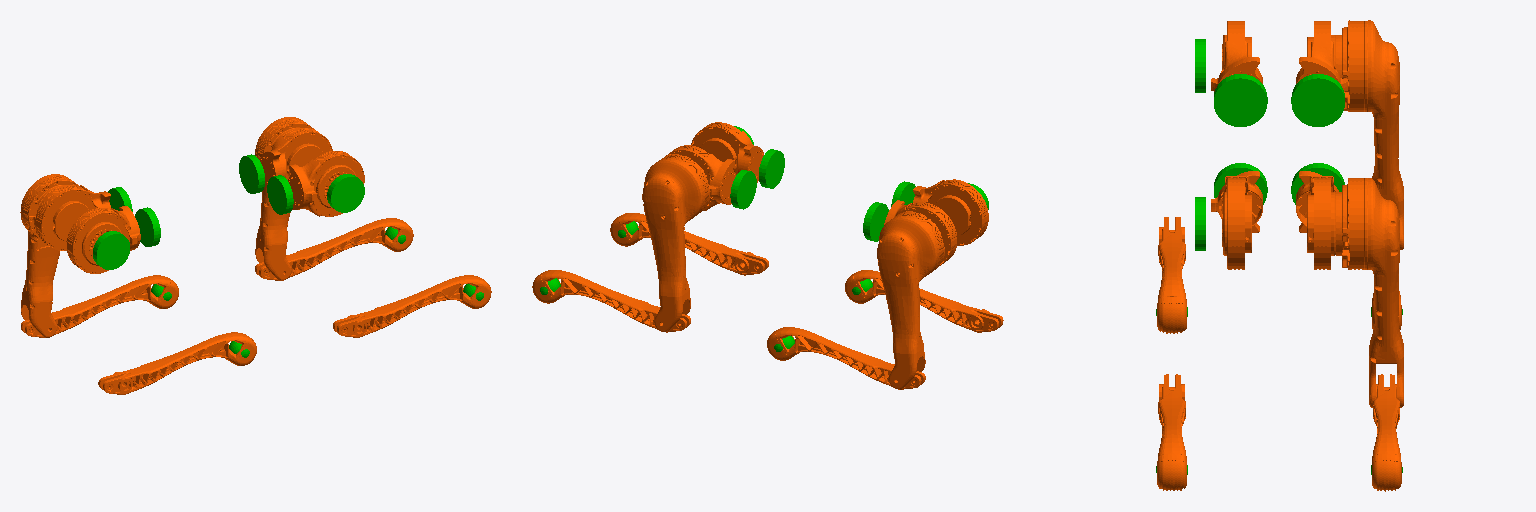
--- Render facts (derived) ---
3 views of the same robot in one strip: view 1: azimuth 30°, elevation 25°; view 2: azimuth 150°, elevation 25°; view 3: azimuth 270°, elevation 25° (orthographic).
Model b1_description with 36 links and 35 joints (12 revolute, 23 fixed), rooted at base, posed joints at zero except 4 at the middle of their limits (FR_calf_joint = -1.6, FL_calf_joint = -1.6, RR_calf_joint = -1.6, RL_calf_joint = -1.6).
Links seen in each view (by area): view 1: RL_thigh, FR_calf, RR_calf, FL_thigh, FR_hip, FL_calf, RL_calf, RL_hip, RR_hip, FL_hip, FR_calf_rotor, RR_calf_rotor (+3 smaller); view 2: RL_thigh, FL_thigh, FL_calf, RL_calf, RR_hip, FR_calf, RR_calf, FR_hip, FL_hip, RL_hip, FR_hip_rotor, FL_hip_rotor (+1 smaller); view 3: FL_thigh, RL_thigh, FR_hip, FL_hip, FR_calf, RR_calf, FL_calf, RR_hip_rotor, RL_hip_rotor, RR_hip, RL_hip, FR_hip_rotor (+3 smaller).
Boxes of the visible links, x1,y1,x2,y2 form: RL_thigh: (20, 174, 78, 337); FR_calf: (333, 275, 491, 337); RR_calf: (98, 332, 256, 394); FL_thigh: (255, 117, 314, 280); FR_hip: (288, 151, 364, 216); FL_calf: (255, 218, 413, 280); RL_calf: (21, 275, 178, 337); RL_hip: (35, 185, 110, 250); RR_hip: (67, 206, 140, 273); FL_hip: (260, 128, 332, 187); FR_calf_rotor: (327, 174, 364, 212); RR_calf_rotor: (93, 231, 129, 269); RL_thigh: (877, 211, 944, 389); FL_thigh: (642, 154, 710, 331); FL_calf: (532, 270, 690, 332); RL_calf: (767, 327, 925, 389); RR_hip: (913, 179, 988, 245); FR_calf: (610, 213, 768, 275); RR_calf: (845, 270, 1003, 332); FR_hip: (691, 122, 763, 182); FL_hip: (666, 145, 735, 210); RL_hip: (884, 200, 956, 265); FR_hip_rotor: (759, 149, 784, 188); FL_hip_rotor: (730, 170, 756, 209); FL_thigh: (1336, 178, 1403, 407); RL_thigh: (1336, 20, 1403, 249); FR_hip: (1211, 171, 1262, 269); FL_hip: (1296, 171, 1338, 269); FR_calf: (1157, 374, 1186, 490); RR_calf: (1157, 217, 1186, 333); FL_calf: (1372, 374, 1401, 491); RR_hip_rotor: (1214, 74, 1267, 126); RL_hip_rotor: (1291, 74, 1344, 126); RR_hip: (1211, 21, 1262, 91); RL_hip: (1296, 21, 1347, 91); FR_hip_rotor: (1214, 163, 1267, 204).
Size in the robot's own frame: 1.17 by 0.4595 by 0.465 metres.
Meshes: 5 distinct files referenced, 10 mesh visuals loaded (3 OBJ); not drawn: 3 (reference not matched to a file when rendering).

robot.urdf — b1_description:
<?xml version="1.0" ?>
<!-- =================================================================================== -->
<!-- |    This document was autogenerated by xacro from robot.xacro                    | -->
<!-- |    EDITING THIS FILE BY HAND IS NOT RECOMMENDED                                 | -->
<!-- =================================================================================== -->
<robot name="b1_description">
  <material name="black">
    <color rgba="0.0 0.0 0.0 1.0"/>
  </material>
  <material name="blue">
    <color rgba="0.0 0.0 0.8 1.0"/>
  </material>
  <material name="green">
    <color rgba="0.0 0.8 0.0 1.0"/>
  </material>
  <material name="grey">
    <color rgba="0.2 0.2 0.2 1.0"/>
  </material>
  <material name="silver">
    <color rgba="0.9137254901960784 0.9137254901960784 0.8470588235294118 1.0"/>
  </material>
  <material name="orange">
    <color rgba="1.0 0.4235294117647059 0.0392156862745098 1.0"/>
  </material>
  <material name="brown">
    <color rgba="0.8705882352941177 0.8117647058823529 0.7647058823529411 1.0"/>
  </material>
  <material name="red">
    <color rgba="0.8 0.0 0.0 1.0"/>
  </material>
  <material name="white">
    <color rgba="1.0 1.0 1.0 1.0"/>
  </material>
  <!-- ros_control plugin -->
  <gazebo>
    <plugin filename="libgazebo_ros_control.so" name="gazebo_ros_control">
      <robotNamespace>/aliengo_gazebo</robotNamespace>
      <robotSimType>gazebo_ros_control/DefaultRobotHWSim</robotSimType>
    </plugin>
  </gazebo>
  <!-- Show the trajectory of trunk center. -->
  <gazebo>
    <plugin filename="libLinkPlot3DPlugin.so" name="3dplot">
      <frequency>10</frequency>
      <plot>
        <link>base</link>
        <pose>0 0 0 0 0 0</pose>
        <material>Gazebo/Yellow</material>
      </plot>
    </plugin>
  </gazebo>
  <!-- Show the trajectory of foot. You can add another trajectory about another foot. -->
  <!-- <gazebo>
        <plugin name="3dplot" filename="libLinkPlot3DPlugin.so">
            <frequency>100</frequency>
            <plot>
                <link>FL_foot</link>
                <pose>0 0 0 0 0 0</pose>
                <material>Gazebo/Green</material>
            </plot>
        </plugin>
    </gazebo> -->
  <gazebo>
    <plugin filename="libgazebo_ros_force.so" name="gazebo_ros_force">
      <bodyName>trunk</bodyName>
      <topicName>/apply_force/trunk</topicName>
    </plugin>
  </gazebo>
  <gazebo reference="imu_link">
    <gravity>true</gravity>
    <sensor name="imu_sensor" type="imu">
      <always_on>true</always_on>
      <update_rate>1000</update_rate>
      <visualize>true</visualize>
      <topic>__default_topic__</topic>
      <plugin filename="libgazebo_ros_imu_sensor.so" name="imu_plugin">
        <topicName>trunk_imu</topicName>
        <bodyName>imu_link</bodyName>
        <updateRateHZ>1000.0</updateRateHZ>
        <gaussianNoise>0.0</gaussianNoise>
        <xyzOffset>0 0 0</xyzOffset>
        <rpyOffset>0 0 0</rpyOffset>
        <frameName>imu_link</frameName>
      </plugin>
      <pose>0 0 0 0 0 0</pose>
    </sensor>
  </gazebo>
  <!-- Foot contacts. -->
  <gazebo reference="FR_calf">
    <sensor name="FR_foot_contact" type="contact">
      <update_rate>100</update_rate>
      <plugin filename="libunitreeFootContactPlugin.so" name="contactPlugin"/>
      <contact>
        <collision>FR_calf_fixed_joint_lump__FR_foot_collision_1</collision>
      </contact>
    </sensor>
  </gazebo>
  <gazebo reference="FL_calf">
    <sensor name="FL_foot_contact" type="contact">
      <update_rate>100</update_rate>
      <plugin filename="libunitreeFootContactPlugin.so" name="contactPlugin"/>
      <contact>
        <collision>FL_calf_fixed_joint_lump__FL_foot_collision_1</collision>
      </contact>
    </sensor>
  </gazebo>
  <gazebo reference="RR_calf">
    <sensor name="RR_foot_contact" type="contact">
      <update_rate>100</update_rate>
      <plugin filename="libunitreeFootContactPlugin.so" name="contactPlugin"/>
      <contact>
        <collision>RR_calf_fixed_joint_lump__RR_foot_collision_1</collision>
      </contact>
    </sensor>
  </gazebo>
  <gazebo reference="RL_calf">
    <sensor name="RL_foot_contact" type="contact">
      <update_rate>100</update_rate>
      <plugin filename="libunitreeFootContactPlugin.so" name="contactPlugin"/>
      <contact>
        <collision>RL_calf_fixed_joint_lump__RL_foot_collision_1</collision>
      </contact>
    </sensor>
  </gazebo>
  <!-- Visualization of Foot contacts. -->
  <gazebo reference="FR_foot">
    <visual>
      <plugin filename="libunitreeDrawForcePlugin.so" name="drawForcePlugin">
        <topicName>FR_foot_contact</topicName>
      </plugin>
    </visual>
  </gazebo>
  <gazebo reference="FL_foot">
    <visual>
      <plugin filename="libunitreeDrawForcePlugin.so" name="drawForcePlugin">
        <topicName>FL_foot_contact</topicName>
      </plugin>
    </visual>
  </gazebo>
  <gazebo reference="RR_foot">
    <visual>
      <plugin filename="libunitreeDrawForcePlugin.so" name="drawForcePlugin">
        <topicName>RR_foot_contact</topicName>
      </plugin>
    </visual>
  </gazebo>
  <gazebo reference="RL_foot">
    <visual>
      <plugin filename="libunitreeDrawForcePlugin.so" name="drawForcePlugin">
        <topicName>RL_foot_contact</topicName>
      </plugin>
    </visual>
  </gazebo>
  <gazebo reference="base">
    <material>Gazebo/Green</material>
    <turnGravityOff>false</turnGravityOff>
  </gazebo>
  <gazebo reference="trunk">
    <mu1>0.2</mu1>
    <mu2>0.2</mu2>
    <kp value="1000000.0"/>
    <kd value="1.0"/>
  </gazebo>
  <gazebo reference="stick_link">
    <mu1>0.2</mu1>
    <mu2>0.2</mu2>
    <material>Gazebo/White</material>
  </gazebo>
  <gazebo reference="imu_link">
    <mu1>0.2</mu1>
    <mu2>0.2</mu2>
    <material>Gazebo/Red</material>
  </gazebo>
  <!-- FL leg -->
  <gazebo reference="FL_hip">
    <mu1>0.2</mu1>
    <mu2>0.2</mu2>
    <material>Gazebo/DarkGrey</material>
  </gazebo>
  <gazebo reference="FL_thigh">
    <mu1>0.2</mu1>
    <mu2>0.2</mu2>
    <self_collide>1</self_collide>
    <material>Gazebo/DarkGrey</material>
    <kp value="1000000.0"/>
    <kd value="1.0"/>
  </gazebo>
  <gazebo reference="FL_calf">
    <mu1>0.2</mu1>
    <mu2>0.2</mu2>
    <self_collide>1</self_collide>
  </gazebo>
  <gazebo reference="FL_foot">
    <mu1>0.6</mu1>
    <mu2>0.6</mu2>
    <self_collide>1</self_collide>
    <material>Gazebo/DarkGrey</material>
    <kp value="1000000.0"/>
    <kd value="1.0"/>
  </gazebo>
  <!-- FR leg -->
  <gazebo reference="FR_hip">
    <mu1>0.2</mu1>
    <mu2>0.2</mu2>
    <material>Gazebo/DarkGrey</material>
  </gazebo>
  <gazebo reference="FR_thigh">
    <mu1>0.2</mu1>
    <mu2>0.2</mu2>
    <self_collide>1</self_collide>
    <material>Gazebo/DarkGrey</material>
    <kp value="1000000.0"/>
    <kd value="1.0"/>
  </gazebo>
  <gazebo reference="FR_calf">
    <mu1>0.2</mu1>
    <mu2>0.2</mu2>
    <self_collide>1</self_collide>
  </gazebo>
  <gazebo reference="FR_foot">
    <mu1>0.6</mu1>
    <mu2>0.6</mu2>
    <self_collide>1</self_collide>
    <material>Gazebo/DarkGrey</material>
    <kp value="1000000.0"/>
    <kd value="1.0"/>
  </gazebo>
  <!-- RL leg -->
  <gazebo reference="RL_hip">
    <mu1>0.2</mu1>
    <mu2>0.2</mu2>
    <material>Gazebo/DarkGrey</material>
  </gazebo>
  <gazebo reference="RL_thigh">
    <mu1>0.2</mu1>
    <mu2>0.2</mu2>
    <self_collide>1</self_collide>
    <material>Gazebo/DarkGrey</material>
    <kp value="1000000.0"/>
    <kd value="1.0"/>
  </gazebo>
  <gazebo reference="RL_calf">
    <mu1>0.2</mu1>
    <mu2>0.2</mu2>
    <self_collide>1</self_collide>
  </gazebo>
  <gazebo reference="RL_foot">
    <mu1>0.6</mu1>
    <mu2>0.6</mu2>
    <self_collide>1</self_collide>
    <material>Gazebo/DarkGrey</material>
    <kp value="1000000.0"/>
    <kd value="1.0"/>
  </gazebo>
  <!-- RR leg -->
  <gazebo reference="RR_hip">
    <mu1>0.2</mu1>
    <mu2>0.2</mu2>
    <material>Gazebo/DarkGrey</material>
  </gazebo>
  <gazebo reference="RR_thigh">
    <mu1>0.2</mu1>
    <mu2>0.2</mu2>
    <self_collide>1</self_collide>
    <material>Gazebo/DarkGrey</material>
    <kp value="1000000.0"/>
    <kd value="1.0"/>
  </gazebo>
  <gazebo reference="RR_calf">
    <mu1>0.2</mu1>
    <mu2>0.2</mu2>
    <self_collide>1</self_collide>
  </gazebo>
  <gazebo reference="RR_foot">
    <mu1>0.6</mu1>
    <mu2>0.6</mu2>
    <self_collide>1</self_collide>
    <material>Gazebo/DarkGrey</material>
    <kp value="1000000.0"/>
    <kd value="1.0"/>
  </gazebo>
  <!-- Rotor related joint and link is only for demonstrate location. -->
  <!-- Actually, the rotor will rotate and the joint is not fixed. Reduction ratio should be considered. -->
  <!-- Debug mode will hung up the robot, use "true" or "false" to switch it. -->
  <!-- <xacro:if value="$(arg DEBUG)">
        <link name="world"/>
        <joint name="base_static_joint" type="fixed">
            <origin rpy="0 0 0" xyz="0 0 0"/>
            <parent link="world"/>
            <child link="base"/>
        </joint>
    </xacro:if>  -->
  <link name="base">
    <visual>
      <origin rpy="0 0 0" xyz="0 0 0"/>
      <geometry>
        <box size="0.001 0.001 0.001"/>
      </geometry>
    </visual>
  </link>
  <joint name="floating_base" type="fixed">
    <origin rpy="0 0 0" xyz="0 0 0"/>
    <parent link="base"/>
    <child link="trunk"/>
  </joint>
  <link name="trunk">
    <visual>
      <origin rpy="0 0 0" xyz="0 0 0"/>
      <geometry>
        <mesh filename="package://b1_description/meshes/trunkb.obj" scale="1 1 1"/>
      </geometry>
      <material name="orange"/>
    </visual>
    <collision>
      <origin rpy="0 0 0" xyz="0 0 0"/>
      <geometry>
        <mesh filename="package://b1_description/meshes/trunkb.obj" scale="1 1 1"/>
      </geometry>
    </collision>
    <inertial>
      <origin rpy="0 0 0" xyz="0.008987 0.002243 0.003013"/>
      <mass value="29.45"/>
      <inertia ixx="0.183142146" ixy="-0.001379002" ixz="-0.027956055" iyy="0.756327752" iyz="0.000193774" izz="0.783777558"/>
    </inertial>
  </link>
  <joint name="imu_joint" type="fixed">
    <parent link="trunk"/>
    <child link="imu_link"/>
    <origin rpy="0 0 0" xyz="0 0 0"/>
  </joint>
  <link name="imu_link">
    <inertial>
      <mass value="0.001"/>
      <origin rpy="0 0 0" xyz="0 0 0"/>
      <inertia ixx="0.0001" ixy="0" ixz="0" iyy="0.000001" iyz="0" izz="0.0001"/>
    </inertial>
    <visual>
      <origin rpy="0 0 0" xyz="0 0 0"/>
      <geometry>
        <box size="0.001 0.001 0.001"/>
      </geometry>
      <material name="red"/>
    </visual>
    <collision>
      <origin rpy="0 0 0" xyz="0 0 0"/>
      <geometry>
        <box size=".001 .001 .001"/>
      </geometry>
    </collision>
  </link>

    <joint name="left_side_camera_joint" type="fixed">
	    <parent link="trunk"/>
	    <child link="left_side_camera_link"/>
	    <origin rpy="-0.331612 0 0" xyz="-0.1086 0.1371 -0.03077"/>
    </joint>

    <link name="left_side_camera_link">
        <inertial>
            <mass value="0.001"/>
            <origin rpy="0 0 0" xyz="0 0 0"/>
            <inertia ixx="0.0001" ixy="0" ixz="0" iyy="0.0001" iyz="0" izz="0.0001"/>
        </inertial>
    </link>

	    
    <joint name="right_side_camera_joint" type="fixed">
	    <parent link="trunk"/>
	    <child link="right_side_camera_link"/>
	    <origin rpy="0.331612 0 0" xyz="-0.10190 -0.1371 -0.03077"/>
    </joint>

    <link name="right_side_camera_link">
        <inertial>
            <mass value="0.001"/>
            <origin rpy="0 0 0" xyz="0 0 0"/>
            <inertia ixx="0.0001" ixy="0" ixz="0" iyy="0.0001" iyz="0" izz="0.0001"/>
        </inertial>
    </link>
-
    <joint name="head_camera_1_joint" type="fixed">
	    <parent link="trunk"/>
	    <child link="head_camera_1_link"/>
	    <origin rpy="0 0 0" xyz="0.48883 0 0.0255"/>
    </joint>

    <link name="head_camera_1_link">
        <inertial>
            <mass value="0.001"/>
            <origin rpy="0 0 0" xyz="0 0 0"/>
            <inertia ixx="0.0001" ixy="0" ixz="0" iyy="0.0001" iyz="0" izz="0.0001"/>
        </inertial>
    </link>

    <joint name="head_camera_2_joint" type="fixed">
	    <parent link="trunk"/>
	    <child link="head_camera_2_link"/>
	    <origin rpy="0 0 0" xyz="0.45430 0 -0.081"/>
    </joint>

    <link name="head_camera_2_link">
        <inertial>
            <mass value="0.001"/>
            <origin rpy="0 0 0" xyz="0 0 0"/>
            <inertia ixx="0.0001" ixy="0" ixz="0" iyy="0.0001" iyz="0" izz="0.0001"/>
        </inertial>
    </link>

    <joint name="tail_camera_joint" type="fixed">
	    <parent link="trunk"/>
	    <child link="tail_camera_link"/>
	    <origin rpy="0 0 0" xyz="-0.459 0 -0.081"/>
    </joint>

    <link name="tail_camera_link">
        <inertial>
            <mass value="0.001"/>
            <origin rpy="0 0 0" xyz="0 0 0"/>
            <inertia ixx="0.0001" ixy="0" ixz="0" iyy="0.0001" iyz="0" izz="0.0001"/>
        </inertial>
    </link>

  <joint name="FR_hip_joint" type="revolute">
    <origin rpy="0 0 0" xyz="0.3455 -0.072 0"/>
    <parent link="trunk"/>
    <child link="FR_hip"/>
    <axis xyz="1 0 0"/>
    <dynamics damping="0" friction="0"/>
    <limit effort="91.0035" lower="-0.75" upper="0.75" velocity="19.69"/>
  </joint>
  <joint name="FR_hip_rotor_joint" type="fixed">
    <origin rpy="0 0 0" xyz="0.1955 -0.072 0"/>
    <parent link="trunk"/>
    <child link="FR_hip_rotor"/>
  </joint>
  <link name="FR_hip">
    <visual>
      <origin rpy="3.141592653589793 0 0" xyz="0 0 0"/>
      <geometry>
        <mesh filename="package://b1_description/meshes/hipb.obj" scale="1 1 1"/>
      </geometry>
      <material name="orange"/>
    </visual>
    <collision>
      <origin rpy="3.141592653589793 0 0" xyz="0 0 0"/>
      <geometry>
        <mesh filename="package://b1_description/meshes/hipb.obj" scale="1 1 1"/>
      </geometry>
    </collision>
    <inertial>
      <origin rpy="0 0 0" xyz="-0.020298 -0.009758 0.000109"/>
      <mass value="2.15"/>
      <inertia ixx="0.00406608" ixy="0.000288071" ixz="-4.371e-06" iyy="0.008775259" iyz="-1.811e-06" izz="0.006060348"/>
    </inertial>
  </link>
  <link name="FR_hip_rotor">
    <visual>
      <origin rpy="0 1.5707963267948966 0" xyz="0 0 0"/>
      <geometry>
        <cylinder length="0.02" radius="0.05"/>
      </geometry>
      <material name="green"/>
    </visual>
    <collision>
      <origin rpy="0 1.5707963267948966 0" xyz="0 0 0"/>
      <geometry>
        <cylinder length="0.02" radius="0.05"/>
      </geometry>
    </collision>
    <inertial>
      <origin rpy="0 0 0" xyz="0.0 0.0 0.0"/>
      <mass value="0.199"/>
      <inertia ixx="0.00039249" ixy="0.0" ixz="0.0" iyy="0.000219397" iyz="0.0" izz="0.000219397"/>
    </inertial>
  </link>
  <joint name="FR_thigh_joint" type="revolute">
    <origin rpy="0 0 0" xyz="0 -0.12675 0"/>
    <parent link="FR_hip"/>
    <child link="FR_thigh"/>
    <axis xyz="0 1 0"/>
    <dynamics damping="0" friction="0"/>
    <limit effort="93.33" lower="-1.0" upper="3.5" velocity="23.32"/>
  </joint>
  <joint name="FR_thigh_rotor_joint" type="fixed">
    <origin rpy="0 0 0" xyz="0.0 -0.00935 0"/>
    <parent link="FR_hip"/>
    <child link="FR_thigh_rotor"/>
  </joint>
  <link name="FR_thigh">
    <visual>
      <origin rpy="0 0 0" xyz="0 0 0"/>
      <geometry>
        <mesh filename="package://b1_description/meshes/thigh_mirrorb.obj" scale="1 1 1"/>
      </geometry>
      <material name="orange"/>
    </visual>
    <collision>
      <origin rpy="0 0 0" xyz="0 0 0"/>
      <geometry>
        <mesh filename="package://b1_description/meshes/thigh_mirrorb.obj" scale="1 1 1"/>
      </geometry>
    </collision>
    <inertial>
      <origin rpy="0 0 0" xyz="-0.000235 0.028704 -0.054169"/>
      <mass value="4.3"/>
      <inertia ixx="0.044459086" ixy="-0.000128738" ixz="-0.002343913" iyy="0.046023457" iyz="-0.006032996" izz="0.008696078"/>
    </inertial>
  </link>
  <link name="FR_thigh_rotor">
    <visual>
      <origin rpy="1.5707963267948966 0 0" xyz="0 0 0"/>
      <geometry>
        <cylinder length="0.02" radius="0.05"/>
      </geometry>
      <material name="green"/>
    </visual>
    <collision>
      <origin rpy="1.5707963267948966 0 0" xyz="0 0 0"/>
      <geometry>
        <cylinder length="0.02" radius="0.05"/>
      </geometry>
    </collision>
    <inertial>
      <origin rpy="0 0 0" xyz="0.0 0.0 0.0"/>
      <mass value="0.266"/>
      <inertia ixx="0.000485657" ixy="0.0" ixz="0.0" iyy="0.00091885" iyz="0.0" izz="0.000485657"/>
    </inertial>
  </link>
  <joint name="FR_calf_joint" type="revolute">
    <origin rpy="0 0 0" xyz="0 0 -0.35"/>
    <parent link="FR_thigh"/>
    <child link="FR_calf"/>
    <axis xyz="0 1 0"/>
    <dynamics damping="0" friction="0"/>
    <limit effort="140" lower="-2.6" upper="-0.6" velocity="15.55"/>
  </joint>
  <joint name="FR_calf_rotor_joint" type="fixed">
    <origin rpy="0 0 0" xyz="0.0 0.0519 0"/>
    <parent link="FR_thigh"/>
    <child link="FR_calf_rotor"/>
  </joint>
  <link name="FR_calf">
    <visual>
      <origin rpy="0 0 0" xyz="0 0 0"/>
      <geometry>
        <mesh filename="package://b1_description/meshes/calfb.obj" scale="1 1 1"/>
      </geometry>
      <material name="orange"/>
    </visual>
    <collision>
      <origin rpy="0 0 0" xyz="0 0 0"/>
      <geometry>
        <mesh filename="package://b1_description/meshes/calfb.obj" scale="1 1 1"/>
      </geometry>
    </collision>
    <inertial>
      <origin rpy="0 0 0" xyz="0.005237 0.0 -0.202805"/>
      <mass value="1.05"/>
      <inertia ixx="0.015011003" ixy="5.2e-08" ixz="0.000250042" iyy="0.015159462" iyz="4.61e-07" izz="0.000375749"/>
    </inertial>
  </link>
  <link name="FR_calf_rotor">
    <visual>
      <origin rpy="1.5707963267948966 0 0" xyz="0 0 0"/>
      <geometry>
        <cylinder length="0.02" radius="0.05"/>
      </geometry>
      <material name="green"/>
    </visual>
    <collision>
      <origin rpy="1.5707963267948966 0 0" xyz="0 0 0"/>
      <geometry>
        <cylinder length="0.02" radius="0.05"/>
      </geometry>
    </collision>
    <inertial>
      <origin rpy="0 0 0" xyz="0.0 0.0 0.0"/>
      <mass value="0.266"/>
      <inertia ixx="0.000485657" ixy="0.0" ixz="0.0" iyy="0.00091885" iyz="0.0" izz="0.000485657"/>
    </inertial>
  </link>
  <joint name="FR_foot_fixed" type="fixed">
    <origin rpy="0 0 0" xyz="0 0 -0.35"/>
    <parent link="FR_calf"/>
    <child link="FR_foot"/>
  </joint>
  <link name="FR_foot">
    <visual>
      <origin rpy="0 0 0" xyz="0 0 0"/>
      <geometry>
        <sphere radius="0.03"/>
      </geometry>
      <material name="green"/>
    </visual>
    <collision>
      <origin rpy="0 0 0" xyz="0 0 0"/>
      <geometry>
        <sphere radius="0.04"/>
      </geometry>
    </collision>
    <inertial>
      <mass value="0.05"/>
      <inertia ixx="3.2000000000000005e-05" ixy="0.0" ixz="0.0" iyy="3.2000000000000005e-05" iyz="0.0" izz="3.2000000000000005e-05"/>
    </inertial>
  </link>
  <transmission name="FR_hip_tran">
    <type>transmission_interface/SimpleTransmission</type>
    <joint name="FR_hip_joint">
      <hardwareInterface>hardware_interface/EffortJointInterface</hardwareInterface>
    </joint>
    <actuator name="FR_hip_motor">
      <hardwareInterface>hardware_interface/EffortJointInterface</hardwareInterface>
      <mechanicalReduction>1</mechanicalReduction>
    </actuator>
  </transmission>
  <transmission name="FR_thigh_tran">
    <type>transmission_interface/SimpleTransmission</type>
    <joint name="FR_thigh_joint">
      <hardwareInterface>hardware_interface/EffortJointInterface</hardwareInterface>
    </joint>
    <actuator name="FR_thigh_motor">
      <hardwareInterface>hardware_interface/EffortJointInterface</hardwareInterface>
      <mechanicalReduction>1</mechanicalReduction>
    </actuator>
  </transmission>
  <transmission name="FR_calf_tran">
    <type>transmission_interface/SimpleTransmission</type>
    <joint name="FR_calf_joint">
      <hardwareInterface>hardware_interface/EffortJointInterface</hardwareInterface>
    </joint>
    <actuator name="FR_calf_motor">
      <hardwareInterface>hardware_interface/EffortJointInterface</hardwareInterface>
      <mechanicalReduction>1</mechanicalReduction>
    </actuator>
  </transmission>
  <joint name="FL_hip_joint" type="revolute">
    <origin rpy="0 0 0" xyz="0.3455 0.072 0"/>
    <parent link="trunk"/>
    <child link="FL_hip"/>
    <axis xyz="1 0 0"/>
    <dynamics damping="0" friction="0"/>
    <limit effort="91.0035" lower="-0.75" upper="0.75" velocity="19.69"/>
  </joint>
  <joint name="FL_hip_rotor_joint" type="fixed">
    <origin rpy="0 0 0" xyz="0.1955 0.072 0"/>
    <parent link="trunk"/>
    <child link="FL_hip_rotor"/>
  </joint>
  <link name="FL_hip">
    <visual>
      <origin rpy="0 0 0" xyz="0 0 0"/>
      <geometry>
        <mesh filename="package://b1_description/meshes/hipb.obj" scale="1 1 1"/>
      </geometry>
      <material name="orange"/>
    </visual>
    <collision>
      <origin rpy="0 0 0" xyz="0 0 0"/>
      <geometry>
        <mesh filename="package://b1_description/meshes/hipb.obj" scale="1 1 1"/>
      </geometry>
    </collision>
    <inertial>
      <origin rpy="0 0 0" xyz="-0.020298 0.009758 0.000109"/>
      <mass value="2.15"/>
      <inertia ixx="0.00406608" ixy="-0.000288071" ixz="-4.371e-06" iyy="0.008775259" iyz="1.811e-06" izz="0.006060348"/>
    </inertial>
  </link>
  <link name="FL_hip_rotor">
    <visual>
      <origin rpy="0 1.5707963267948966 0" xyz="0 0 0"/>
      <geometry>
        <cylinder length="0.02" radius="0.05"/>
      </geometry>
      <material name="green"/>
    </visual>
    <collision>
      <origin rpy="0 1.5707963267948966 0" xyz="0 0 0"/>
      <geometry>
        <cylinder length="0.02" radius="0.05"/>
      </geometry>
    </collision>
    <inertial>
      <origin rpy="0 0 0" xyz="0.0 0.0 0.0"/>
      <mass value="0.199"/>
      <inertia ixx="0.00039249" ixy="0.0" ixz="0.0" iyy="0.000219397" iyz="0.0" izz="0.000219397"/>
    </inertial>
  </link>
  <joint name="FL_thigh_joint" type="revolute">
    <origin rpy="0 0 0" xyz="0 0.12675 0"/>
    <parent link="FL_hip"/>
    <child link="FL_thigh"/>
    <axis xyz="0 1 0"/>
    <dynamics damping="0" friction="0"/>
    <limit effort="93.33" lower="-1.0" upper="3.5" velocity="23.32"/>
  </joint>
  <joint name="FL_thigh_rotor_joint" type="fixed">
    <origin rpy="0 0 0" xyz="0.0 0.00935 0"/>
    <parent link="FL_hip"/>
    <child link="FL_thigh_rotor"/>
  </joint>
  <link name="FL_thigh">
    <visual>
      <origin rpy="0 0 0" xyz="0 0 0"/>
      <geometry>
        <mesh filename="package://b1_description/meshes/thighb.obj" scale="1 1 1"/>
      </geometry>
      <material name="orange"/>
    </visual>
    <collision>
      <origin rpy="0 0 0" xyz="0 0 0"/>
      <geometry>
        <mesh filename="package://b1_description/meshes/thighb.obj" scale="1 1 1"/>
      </geometry>
    </collision>
    <inertial>
      <origin rpy="0 0 0" xyz="-0.000235 -0.028704 -0.054169"/>
      <mass value="4.3"/>
      <inertia ixx="0.044459086" ixy="0.000128738" ixz="-0.002343913" iyy="0.046023457" iyz="0.006032996" izz="0.008696078"/>
    </inertial>
  </link>
  <link name="FL_thigh_rotor">
    <visual>
      <origin rpy="1.5707963267948966 0 0" xyz="0 0 0"/>
      <geometry>
        <cylinder length="0.02" radius="0.05"/>
      </geometry>
      <material name="green"/>
    </visual>
    <collision>
      <origin rpy="1.5707963267948966 0 0" xyz="0 0 0"/>
      <geometry>
        <cylinder length="0.02" radius="0.05"/>
      </geometry>
    </collision>
    <inertial>
      <origin rpy="0 0 0" xyz="0.0 0.0 0.0"/>
      <mass value="0.266"/>
      <inertia ixx="0.000485657" ixy="0.0" ixz="0.0" iyy="0.00091885" iyz="0.0" izz="0.000485657"/>
    </inertial>
  </link>
  <joint name="FL_calf_joint" type="revolute">
    <origin rpy="0 0 0" xyz="0 0 -0.35"/>
    <parent link="FL_thigh"/>
    <child link="FL_calf"/>
    <axis xyz="0 1 0"/>
    <dynamics damping="0" friction="0"/>
    <limit effort="140" lower="-2.6" upper="-0.6" velocity="15.55"/>
  </joint>
  <joint name="FL_calf_rotor_joint" type="fixed">
    <origin rpy="0 0 0" xyz="0.0 -0.0519 0"/>
    <parent link="FL_thigh"/>
    <child link="FL_calf_rotor"/>
  </joint>
  <link name="FL_calf">
    <visual>
      <origin rpy="0 0 0" xyz="0 0 0"/>
      <geometry>
        <mesh filename="package://b1_description/meshes/calfb.obj" scale="1 1 1"/>
      </geometry>
      <material name="orange"/>
    </visual>
    <collision>
      <origin rpy="0 0 0" xyz="0 0 0"/>
      <geometry>
        <mesh filename="package://b1_description/meshes/calfb.obj" scale="1 1 1"/>
      </geometry>
    </collision>
    <inertial>
      <origin rpy="0 0 0" xyz="0.005237 0.0 -0.202805"/>
      <mass value="1.05"/>
      <inertia ixx="0.015011003" ixy="5.2e-08" ixz="0.000250042" iyy="0.015159462" iyz="4.61e-07" izz="0.000375749"/>
    </inertial>
  </link>
  <link name="FL_calf_rotor">
    <visual>
      <origin rpy="1.5707963267948966 0 0" xyz="0 0 0"/>
      <geometry>
        <cylinder length="0.02" radius="0.05"/>
      </geometry>
      <material name="green"/>
    </visual>
    <collision>
      <origin rpy="1.5707963267948966 0 0" xyz="0 0 0"/>
      <geometry>
        <cylinder length="0.02" radius="0.05"/>
      </geometry>
    </collision>
    <inertial>
      <origin rpy="0 0 0" xyz="0.0 0.0 0.0"/>
      <mass value="0.266"/>
      <inertia ixx="0.000485657" ixy="0.0" ixz="0.0" iyy="0.00091885" iyz="0.0" izz="0.000485657"/>
    </inertial>
  </link>
  <joint name="FL_foot_fixed" type="fixed">
    <origin rpy="0 0 0" xyz="0 0 -0.35"/>
    <parent link="FL_calf"/>
    <child link="FL_foot"/>
  </joint>
  <link name="FL_foot">
    <visual>
      <origin rpy="0 0 0" xyz="0 0 0"/>
      <geometry>
        <sphere radius="0.03"/>
      </geometry>
      <material name="green"/>
    </visual>
    <collision>
      <origin rpy="0 0 0" xyz="0 0 0"/>
      <geometry>
        <sphere radius="0.04"/>
      </geometry>
    </collision>
    <inertial>
      <mass value="0.05"/>
      <inertia ixx="3.2000000000000005e-05" ixy="0.0" ixz="0.0" iyy="3.2000000000000005e-05" iyz="0.0" izz="3.2000000000000005e-05"/>
    </inertial>
  </link>
  <transmission name="FL_hip_tran">
    <type>transmission_interface/SimpleTransmission</type>
    <joint name="FL_hip_joint">
      <hardwareInterface>hardware_interface/EffortJointInterface</hardwareInterface>
    </joint>
    <actuator name="FL_hip_motor">
      <hardwareInterface>hardware_interface/EffortJointInterface</hardwareInterface>
      <mechanicalReduction>1</mechanicalReduction>
    </actuator>
  </transmission>
  <transmission name="FL_thigh_tran">
    <type>transmission_interface/SimpleTransmission</type>
    <joint name="FL_thigh_joint">
      <hardwareInterface>hardware_interface/EffortJointInterface</hardwareInterface>
    </joint>
    <actuator name="FL_thigh_motor">
      <hardwareInterface>hardware_interface/EffortJointInterface</hardwareInterface>
      <mechanicalReduction>1</mechanicalReduction>
    </actuator>
  </transmission>
  <transmission name="FL_calf_tran">
    <type>transmission_interface/SimpleTransmission</type>
    <joint name="FL_calf_joint">
      <hardwareInterface>hardware_interface/EffortJointInterface</hardwareInterface>
    </joint>
    <actuator name="FL_calf_motor">
      <hardwareInterface>hardware_interface/EffortJointInterface</hardwareInterface>
      <mechanicalReduction>1</mechanicalReduction>
    </actuator>
  </transmission>
  <joint name="RR_hip_joint" type="revolute">
    <origin rpy="0 0 0" xyz="-0.3455 -0.072 0"/>
    <parent link="trunk"/>
    <child link="RR_hip"/>
    <axis xyz="1 0 0"/>
    <dynamics damping="0" friction="0"/>
    <limit effort="91.0035" lower="-0.75" upper="0.75" velocity="19.69"/>
  </joint>
  <joint name="RR_hip_rotor_joint" type="fixed">
    <origin rpy="0 0 0" xyz="-0.1955 -0.072 0"/>
    <parent link="trunk"/>
    <child link="RR_hip_rotor"/>
  </joint>
  <link name="RR_hip">
    <visual>
      <origin rpy="3.141592653589793 3.141592653589793 0" xyz="0 0 0"/>
      <geometry>
        <mesh filename="package://b1_description/meshes/hipb.obj" scale="1 1 1"/>
      </geometry>
      <material name="orange"/>
    </visual>
    <collision>
      <origin rpy="3.141592653589793 3.141592653589793 0" xyz="0 0 0"/>
      <geometry>
        <mesh filename="package://b1_description/meshes/hipb.obj" scale="1 1 1"/>
      </geometry>
    </collision>
    <inertial>
      <origin rpy="0 0 0" xyz="0.020298 -0.009758 0.000109"/>
      <mass value="2.15"/>
      <inertia ixx="0.00406608" ixy="-0.000288071" ixz="4.371e-06" iyy="0.008775259" iyz="-1.811e-06" izz="0.006060348"/>
    </inertial>
  </link>
  <link name="RR_hip_rotor">
    <visual>
      <origin rpy="0 1.5707963267948966 0" xyz="0 0 0"/>
      <geometry>
        <cylinder length="0.02" radius="0.05"/>
      </geometry>
      <material name="green"/>
    </visual>
    <collision>
      <origin rpy="0 1.5707963267948966 0" xyz="0 0 0"/>
      <geometry>
        <cylinder length="0.02" radius="0.05"/>
      </geometry>
    </collision>
    <inertial>
      <origin rpy="0 0 0" xyz="0.0 0.0 0.0"/>
      <mass value="0.199"/>
      <inertia ixx="0.00039249" ixy="0.0" ixz="0.0" iyy="0.000219397" iyz="0.0" izz="0.000219397"/>
    </inertial>
  </link>
  <joint name="RR_thigh_joint" type="revolute">
    <origin rpy="0 0 0" xyz="0 -0.12675 0"/>
    <parent link="RR_hip"/>
    <child link="RR_thigh"/>
    <axis xyz="0 1 0"/>
    <dynamics damping="0" friction="0"/>
    <limit effort="93.33" lower="-1.0" upper="3.5" velocity="23.32"/>
  </joint>
  <joint name="RR_thigh_rotor_joint" type="fixed">
    <origin rpy="0 0 0" xyz="0.0 -0.00935 0"/>
    <parent link="RR_hip"/>
    <child link="RR_thigh_rotor"/>
  </joint>
  <link name="RR_thigh">
    <visual>
      <origin rpy="0 0 0" xyz="0 0 0"/>
      <geometry>
        <mesh filename="package://b1_description/meshes/thigh_mirrorb.obj" scale="1 1 1"/>
      </geometry>
      <material name="orange"/>
    </visual>
    <collision>
      <origin rpy="0 0 0" xyz="0 0 0"/>
      <geometry>
        <mesh filename="package://b1_description/meshes/thigh_mirrorb.obj" scale="1 1 1"/>
      </geometry>
    </collision>
    <inertial>
      <origin rpy="0 0 0" xyz="-0.000235 0.028704 -0.054169"/>
      <mass value="4.3"/>
      <inertia ixx="0.044459086" ixy="-0.000128738" ixz="-0.002343913" iyy="0.046023457" iyz="-0.006032996" izz="0.008696078"/>
    </inertial>
  </link>
  <link name="RR_thigh_rotor">
    <visual>
      <origin rpy="1.5707963267948966 0 0" xyz="0 0 0"/>
      <geometry>
        <cylinder length="0.02" radius="0.05"/>
      </geometry>
      <material name="green"/>
    </visual>
    <collision>
      <origin rpy="1.5707963267948966 0 0" xyz="0 0 0"/>
      <geometry>
        <cylinder length="0.02" radius="0.05"/>
      </geometry>
    </collision>
    <inertial>
      <origin rpy="0 0 0" xyz="0.0 0.0 0.0"/>
      <mass value="0.266"/>
      <inertia ixx="0.000485657" ixy="0.0" ixz="0.0" iyy="0.00091885" iyz="0.0" izz="0.000485657"/>
    </inertial>
  </link>
  <joint name="RR_calf_joint" type="revolute">
    <origin rpy="0 0 0" xyz="0 0 -0.35"/>
    <parent link="RR_thigh"/>
    <child link="RR_calf"/>
    <axis xyz="0 1 0"/>
    <dynamics damping="0" friction="0"/>
    <limit effort="140" lower="-2.6" upper="-0.6" velocity="15.55"/>
  </joint>
  <joint name="RR_calf_rotor_joint" type="fixed">
    <origin rpy="0 0 0" xyz="0.0 0.0519 0"/>
    <parent link="RR_thigh"/>
    <child link="RR_calf_rotor"/>
  </joint>
  <link name="RR_calf">
    <visual>
      <origin rpy="0 0 0" xyz="0 0 0"/>
      <geometry>
        <mesh filename="package://b1_description/meshes/calfb.obj" scale="1 1 1"/>
      </geometry>
      <material name="orange"/>
    </visual>
    <collision>
      <origin rpy="0 0 0" xyz="0 0 0"/>
      <geometry>
        <mesh filename="package://b1_description/meshes/calfb.obj" scale="1 1 1"/>
      </geometry>
    </collision>
    <inertial>
      <origin rpy="0 0 0" xyz="0.005237 0.0 -0.202805"/>
      <mass value="1.05"/>
      <inertia ixx="0.015011003" ixy="5.2e-08" ixz="0.000250042" iyy="0.015159462" iyz="4.61e-07" izz="0.000375749"/>
    </inertial>
  </link>
  <link name="RR_calf_rotor">
    <visual>
      <origin rpy="1.5707963267948966 0 0" xyz="0 0 0"/>
      <geometry>
        <cylinder length="0.02" radius="0.05"/>
      </geometry>
      <material name="green"/>
    </visual>
    <collision>
      <origin rpy="1.5707963267948966 0 0" xyz="0 0 0"/>
      <geometry>
        <cylinder length="0.02" radius="0.05"/>
      </geometry>
    </collision>
    <inertial>
      <origin rpy="0 0 0" xyz="0.0 0.0 0.0"/>
      <mass value="0.266"/>
      <inertia ixx="0.000485657" ixy="0.0" ixz="0.0" iyy="0.00091885" iyz="0.0" izz="0.000485657"/>
    </inertial>
  </link>
  <joint name="RR_foot_fixed" type="fixed">
    <origin rpy="0 0 0" xyz="0 0 -0.35"/>
    <parent link="RR_calf"/>
    <child link="RR_foot"/>
  </joint>
  <link name="RR_foot">
    <visual>
      <origin rpy="0 0 0" xyz="0 0 0"/>
      <geometry>
        <sphere radius="0.03"/>
      </geometry>
      <material name="green"/>
    </visual>
    <collision>
      <origin rpy="0 0 0" xyz="0 0 0"/>
      <geometry>
        <sphere radius="0.04"/>
      </geometry>
    </collision>
    <inertial>
      <mass value="0.05"/>
      <inertia ixx="3.2000000000000005e-05" ixy="0.0" ixz="0.0" iyy="3.2000000000000005e-05" iyz="0.0" izz="3.2000000000000005e-05"/>
    </inertial>
  </link>
  <transmission name="RR_hip_tran">
    <type>transmission_interface/SimpleTransmission</type>
    <joint name="RR_hip_joint">
      <hardwareInterface>hardware_interface/EffortJointInterface</hardwareInterface>
    </joint>
    <actuator name="RR_hip_motor">
      <hardwareInterface>hardware_interface/EffortJointInterface</hardwareInterface>
      <mechanicalReduction>1</mechanicalReduction>
    </actuator>
  </transmission>
  <transmission name="RR_thigh_tran">
    <type>transmission_interface/SimpleTransmission</type>
    <joint name="RR_thigh_joint">
      <hardwareInterface>hardware_interface/EffortJointInterface</hardwareInterface>
    </joint>
    <actuator name="RR_thigh_motor">
      <hardwareInterface>hardware_interface/EffortJointInterface</hardwareInterface>
      <mechanicalReduction>1</mechanicalReduction>
    </actuator>
  </transmission>
  <transmission name="RR_calf_tran">
    <type>transmission_interface/SimpleTransmission</type>
    <joint name="RR_calf_joint">
      <hardwareInterface>hardware_interface/EffortJointInterface</hardwareInterface>
    </joint>
    <actuator name="RR_calf_motor">
      <hardwareInterface>hardware_interface/EffortJointInterface</hardwareInterface>
      <mechanicalReduction>1</mechanicalReduction>
    </actuator>
  </transmission>
  <joint name="RL_hip_joint" type="revolute">
    <origin rpy="0 0 0" xyz="-0.3455 0.072 0"/>
    <parent link="trunk"/>
    <child link="RL_hip"/>
    <axis xyz="1 0 0"/>
    <dynamics damping="0" friction="0"/>
    <limit effort="91.0035" lower="-0.75" upper="0.75" velocity="19.69"/>
  </joint>
  <joint name="RL_hip_rotor_joint" type="fixed">
    <origin rpy="0 0 0" xyz="-0.1955 0.072 0"/>
    <parent link="trunk"/>
    <child link="RL_hip_rotor"/>
  </joint>
  <link name="RL_hip">
    <visual>
      <origin rpy="0 3.141592653589793 0" xyz="0 0 0"/>
      <geometry>
        <mesh filename="package://b1_description/meshes/hipb.obj" scale="1 1 1"/>
      </geometry>
      <material name="orange"/>
    </visual>
    <collision>
      <origin rpy="0 3.141592653589793 0" xyz="0 0 0"/>
      <geometry>
        <mesh filename="package://b1_description/meshes/hipb.obj" scale="1 1 1"/>
      </geometry>
    </collision>
    <inertial>
      <origin rpy="0 0 0" xyz="0.020298 0.009758 0.000109"/>
      <mass value="2.15"/>
      <inertia ixx="0.00406608" ixy="0.000288071" ixz="4.371e-06" iyy="0.008775259" iyz="1.811e-06" izz="0.006060348"/>
    </inertial>
  </link>
  <link name="RL_hip_rotor">
    <visual>
      <origin rpy="0 1.5707963267948966 0" xyz="0 0 0"/>
      <geometry>
        <cylinder length="0.02" radius="0.05"/>
      </geometry>
      <material name="green"/>
    </visual>
    <collision>
      <origin rpy="0 1.5707963267948966 0" xyz="0 0 0"/>
      <geometry>
        <cylinder length="0.02" radius="0.05"/>
      </geometry>
    </collision>
    <inertial>
      <origin rpy="0 0 0" xyz="0.0 0.0 0.0"/>
      <mass value="0.199"/>
      <inertia ixx="0.00039249" ixy="0.0" ixz="0.0" iyy="0.000219397" iyz="0.0" izz="0.000219397"/>
    </inertial>
  </link>
  <joint name="RL_thigh_joint" type="revolute">
    <origin rpy="0 0 0" xyz="0 0.12675 0"/>
    <parent link="RL_hip"/>
    <child link="RL_thigh"/>
    <axis xyz="0 1 0"/>
    <dynamics damping="0" friction="0"/>
    <limit effort="93.33" lower="-1.0" upper="3.5" velocity="23.32"/>
  </joint>
  <joint name="RL_thigh_rotor_joint" type="fixed">
    <origin rpy="0 0 0" xyz="0.0 0.00935 0"/>
    <parent link="RL_hip"/>
    <child link="RL_thigh_rotor"/>
  </joint>
  <link name="RL_thigh">
    <visual>
      <origin rpy="0 0 0" xyz="0 0 0"/>
      <geometry>
        <mesh filename="package://b1_description/meshes/thighb.obj" scale="1 1 1"/>
      </geometry>
      <material name="orange"/>
    </visual>
    <collision>
      <origin rpy="0 0 0" xyz="0 0 0"/>
      <geometry>
        <mesh filename="package://b1_description/meshes/thighb.obj" scale="1 1 1"/>
      </geometry>
    </collision>
    <inertial>
      <origin rpy="0 0 0" xyz="-0.000235 -0.028704 -0.054169"/>
      <mass value="4.3"/>
      <inertia ixx="0.044459086" ixy="0.000128738" ixz="-0.002343913" iyy="0.046023457" iyz="0.006032996" izz="0.008696078"/>
    </inertial>
  </link>
  <link name="RL_thigh_rotor">
    <visual>
      <origin rpy="1.5707963267948966 0 0" xyz="0 0 0"/>
      <geometry>
        <cylinder length="0.02" radius="0.05"/>
      </geometry>
      <material name="green"/>
    </visual>
    <collision>
      <origin rpy="1.5707963267948966 0 0" xyz="0 0 0"/>
      <geometry>
        <cylinder length="0.02" radius="0.05"/>
      </geometry>
    </collision>
    <inertial>
      <origin rpy="0 0 0" xyz="0.0 0.0 0.0"/>
      <mass value="0.266"/>
      <inertia ixx="0.000485657" ixy="0.0" ixz="0.0" iyy="0.00091885" iyz="0.0" izz="0.000485657"/>
    </inertial>
  </link>
  <joint name="RL_calf_joint" type="revolute">
    <origin rpy="0 0 0" xyz="0 0 -0.35"/>
    <parent link="RL_thigh"/>
    <child link="RL_calf"/>
    <axis xyz="0 1 0"/>
    <dynamics damping="0" friction="0"/>
    <limit effort="140" lower="-2.6" upper="-0.6" velocity="15.55"/>
  </joint>
  <joint name="RL_calf_rotor_joint" type="fixed">
    <origin rpy="0 0 0" xyz="0.0 -0.0519 0"/>
    <parent link="RL_thigh"/>
    <child link="RL_calf_rotor"/>
  </joint>
  <link name="RL_calf">
    <visual>
      <origin rpy="0 0 0" xyz="0 0 0"/>
      <geometry>
        <mesh filename="package://b1_description/meshes/calfb.obj" scale="1 1 1"/>
      </geometry>
      <material name="orange"/>
    </visual>
    <collision>
      <origin rpy="0 0 0" xyz="0 0 0"/>
      <geometry>
        <mesh filename="package://b1_description/meshes/calfb.obj" scale="1 1 1"/>
      </geometry>
    </collision>
    <inertial>
      <origin rpy="0 0 0" xyz="0.005237 0.0 -0.202805"/>
      <mass value="1.05"/>
      <inertia ixx="0.015011003" ixy="5.2e-08" ixz="0.000250042" iyy="0.015159462" iyz="4.61e-07" izz="0.000375749"/>
    </inertial>
  </link>
  <link name="RL_calf_rotor">
    <visual>
      <origin rpy="1.5707963267948966 0 0" xyz="0 0 0"/>
      <geometry>
        <cylinder length="0.02" radius="0.05"/>
      </geometry>
      <material name="green"/>
    </visual>
    <collision>
      <origin rpy="1.5707963267948966 0 0" xyz="0 0 0"/>
      <geometry>
        <cylinder length="0.02" radius="0.05"/>
      </geometry>
    </collision>
    <inertial>
      <origin rpy="0 0 0" xyz="0.0 0.0 0.0"/>
      <mass value="0.266"/>
      <inertia ixx="0.000485657" ixy="0.0" ixz="0.0" iyy="0.00091885" iyz="0.0" izz="0.000485657"/>
    </inertial>
  </link>
  <joint name="RL_foot_fixed" type="fixed">
    <origin rpy="0 0 0" xyz="0 0 -0.35"/>
    <parent link="RL_calf"/>
    <child link="RL_foot"/>
  </joint>
  <link name="RL_foot">
    <visual>
      <origin rpy="0 0 0" xyz="0 0 0"/>
      <geometry>
        <sphere radius="0.03"/>
      </geometry>
      <material name="green"/>
    </visual>
    <collision>
      <origin rpy="0 0 0" xyz="0 0 0"/>
      <geometry>
        <sphere radius="0.04"/>
      </geometry>
    </collision>
    <inertial>
      <mass value="0.05"/>
      <inertia ixx="3.2000000000000005e-05" ixy="0.0" ixz="0.0" iyy="3.2000000000000005e-05" iyz="0.0" izz="3.2000000000000005e-05"/>
    </inertial>
  </link>
  <transmission name="RL_hip_tran">
    <type>transmission_interface/SimpleTransmission</type>
    <joint name="RL_hip_joint">
      <hardwareInterface>hardware_interface/EffortJointInterface</hardwareInterface>
    </joint>
    <actuator name="RL_hip_motor">
      <hardwareInterface>hardware_interface/EffortJointInterface</hardwareInterface>
      <mechanicalReduction>1</mechanicalReduction>
    </actuator>
  </transmission>
  <transmission name="RL_thigh_tran">
    <type>transmission_interface/SimpleTransmission</type>
    <joint name="RL_thigh_joint">
      <hardwareInterface>hardware_interface/EffortJointInterface</hardwareInterface>
    </joint>
    <actuator name="RL_thigh_motor">
      <hardwareInterface>hardware_interface/EffortJointInterface</hardwareInterface>
      <mechanicalReduction>1</mechanicalReduction>
    </actuator>
  </transmission>
  <transmission name="RL_calf_tran">
    <type>transmission_interface/SimpleTransmission</type>
    <joint name="RL_calf_joint">
      <hardwareInterface>hardware_interface/EffortJointInterface</hardwareInterface>
    </joint>
    <actuator name="RL_calf_motor">
      <hardwareInterface>hardware_interface/EffortJointInterface</hardwareInterface>
      <mechanicalReduction>1</mechanicalReduction>
    </actuator>
  </transmission>
  <!-- <xacro:stairs stairs="15" xpos="0" ypos="2.0" zpos="0" /> -->
</robot>
